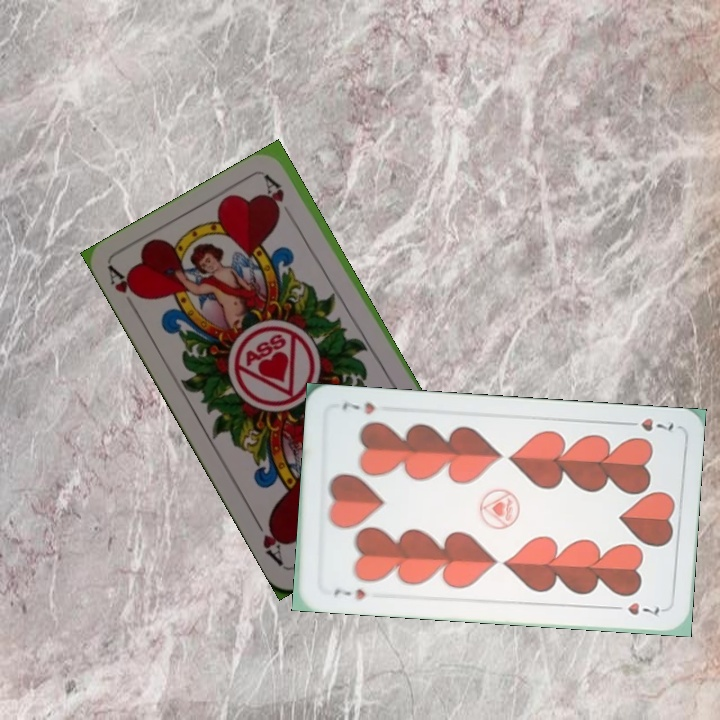H7: (619, 413, 677, 436), (329, 584, 368, 603)
HA: (104, 263, 145, 317)
